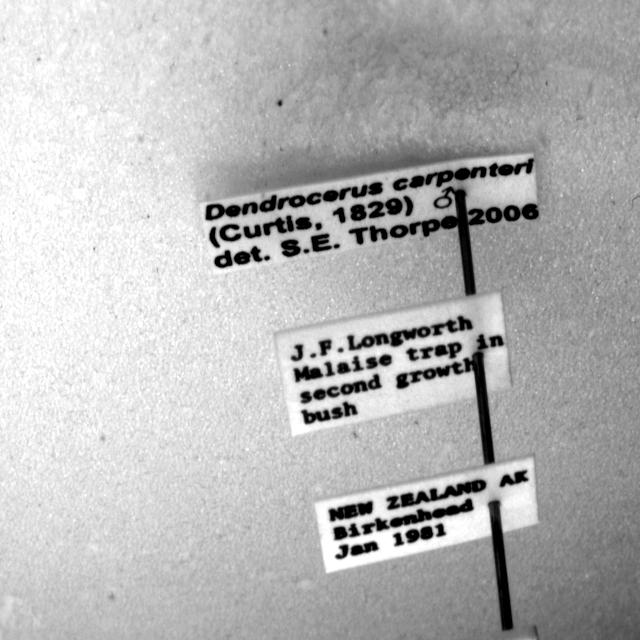typed_label: (200, 154, 539, 272), (275, 292, 511, 435), (315, 458, 539, 574)
